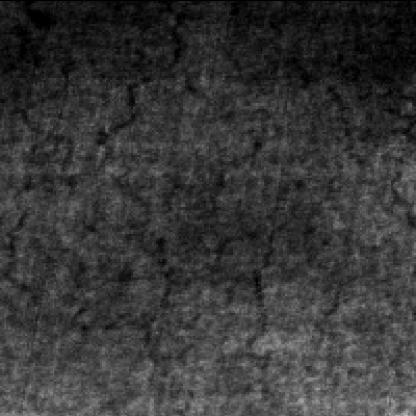crazing: (29, 6, 179, 336), (200, 125, 364, 372)
